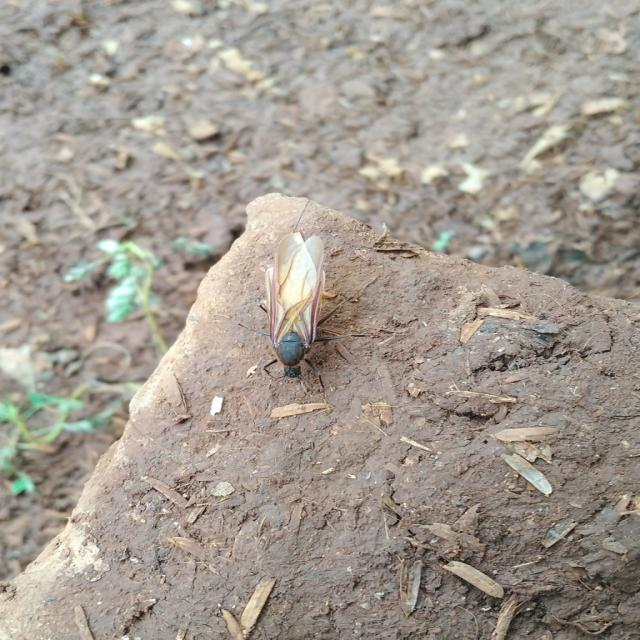Alive-Male-Alate: (236, 230, 380, 400)
